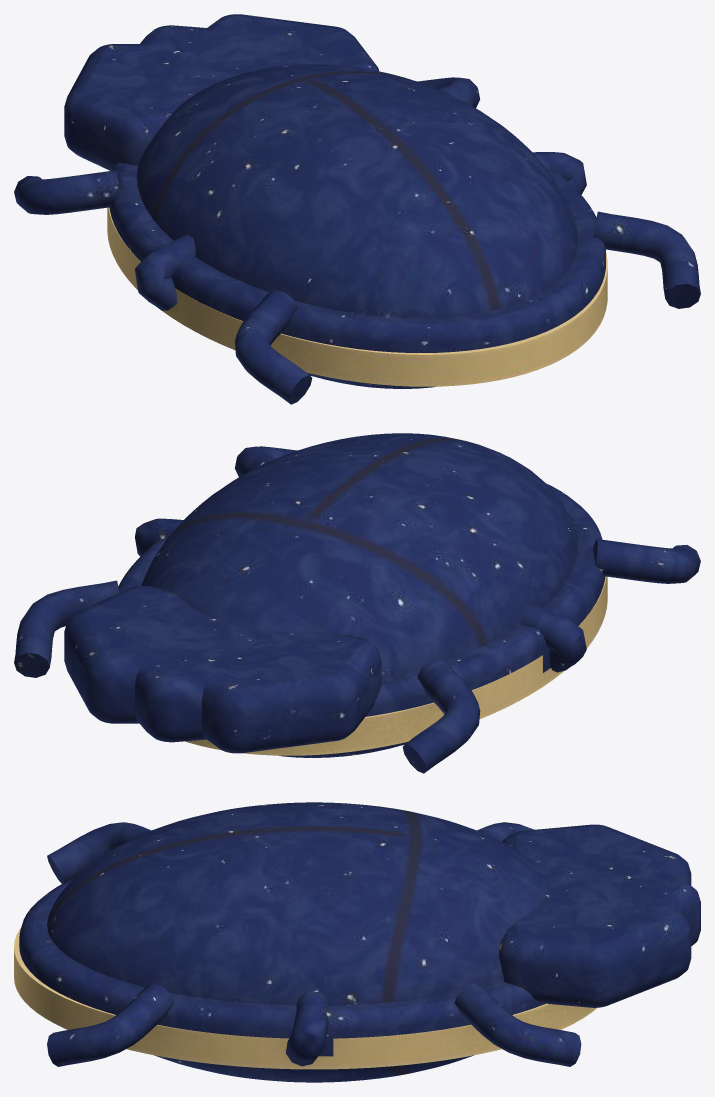
The model's file is heart_scarab.glb.
3 renders of one model, top to bottom at view 1: azimuth 30°, elevation 25°; view 2: azimuth 150°, elevation 25°; view 3: azimuth 270°, elevation 25°, orthographic. The views are drawn at different scales.
Parts seen in each view (by area): view 1: heart_scarab; view 2: heart_scarab; view 3: heart_scarab.
Boxes of the visible parts, x1,y1,x2,y2 form: heart_scarab: (14, 14, 700, 404); heart_scarab: (14, 433, 700, 773); heart_scarab: (14, 802, 700, 1082).
Size of the model in its own units: 0.0514 by 0.026 by 0.0711.
Materials: 1 (1 with a texture image).
